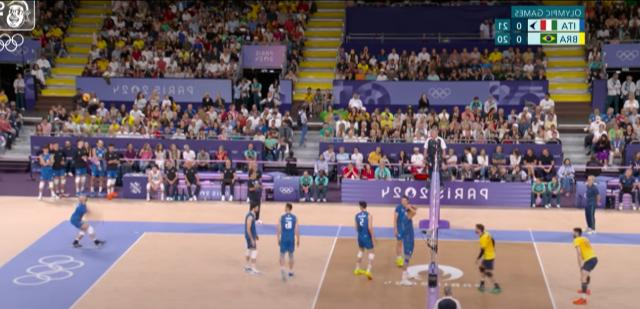Levantador: (474, 225, 500, 293), (396, 196, 408, 218)
bola: (82, 94, 90, 100)
